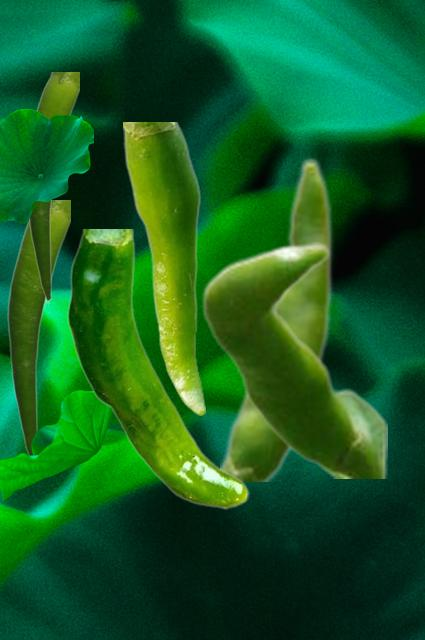green_chili: (67, 229, 248, 508), (201, 242, 386, 477), (220, 156, 333, 480), (123, 122, 204, 414), (7, 200, 69, 453), (28, 72, 78, 300)
